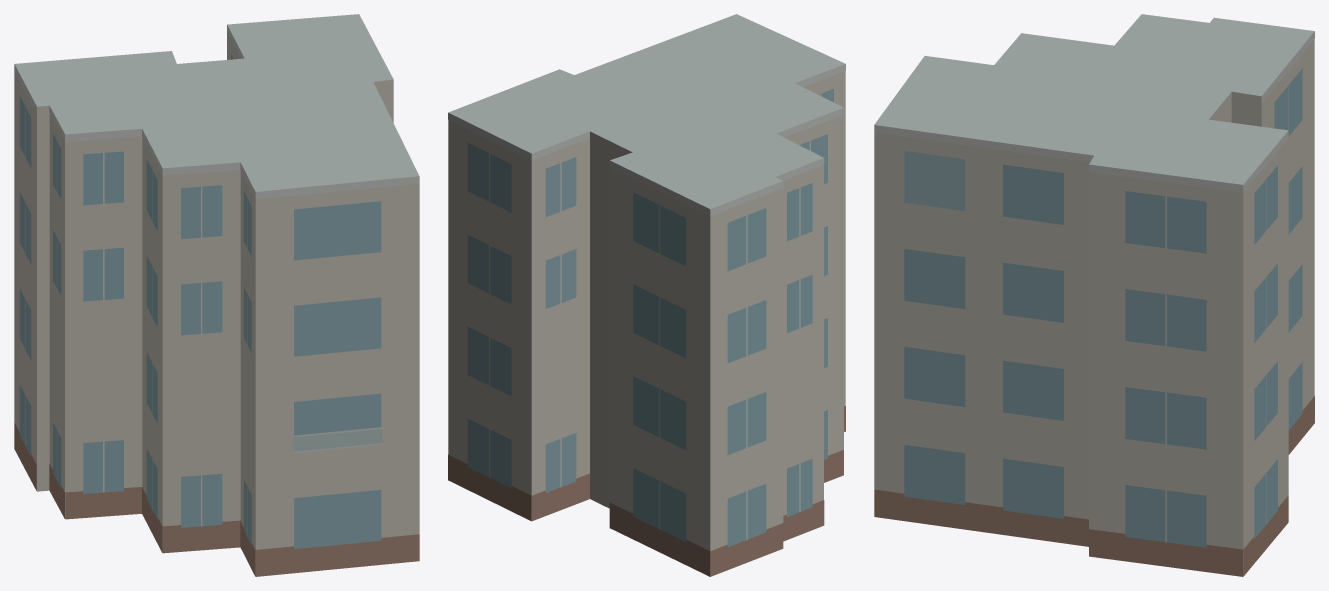
Rendered from survey-upis-32493681.glb.
3 views of the same model, side by side, from view 1: azimuth 30°, elevation 25°; view 2: azimuth 150°, elevation 25°; view 3: azimuth 270°, elevation 25° (orthographic). The views are drawn at different scales.
Parts seen in each view (by area): view 1: survey-upis-32493681.tmp; view 2: survey-upis-32493681.tmp; view 3: survey-upis-32493681.tmp.
Boxes of the visible parts, left/top/right/bottom form: survey-upis-32493681.tmp: left=14, top=14, right=419, bottom=576; survey-upis-32493681.tmp: left=448, top=14, right=845, bottom=576; survey-upis-32493681.tmp: left=874, top=14, right=1314, bottom=576.
Size of the model in its own units: 11.88 by 12.7 by 12.95.
